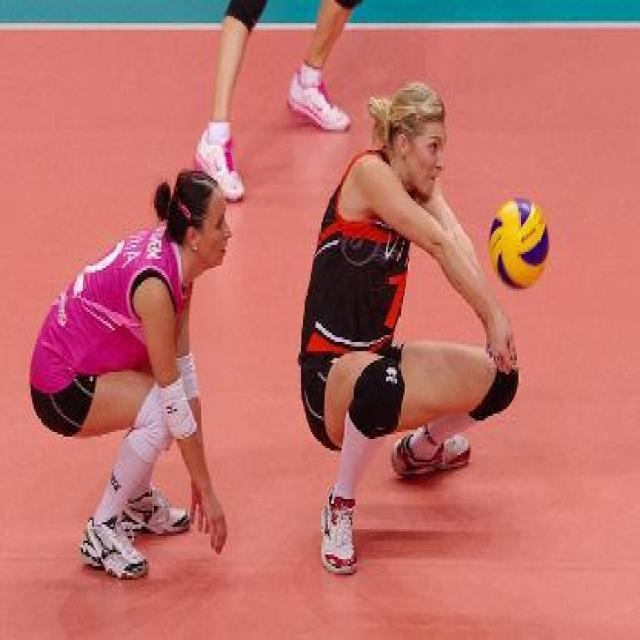volleyball: (488, 199, 548, 290)
